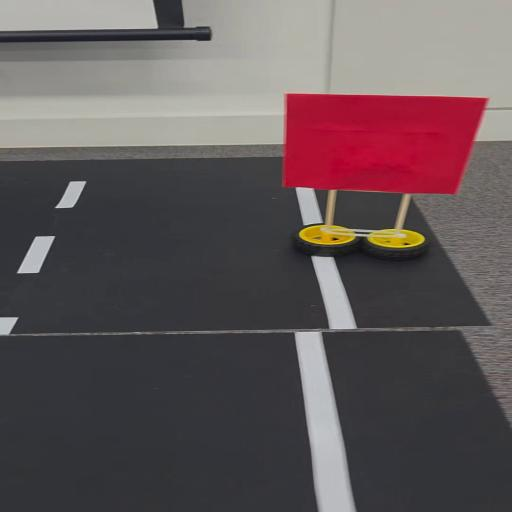Sign_A: (268, 85, 512, 260)
